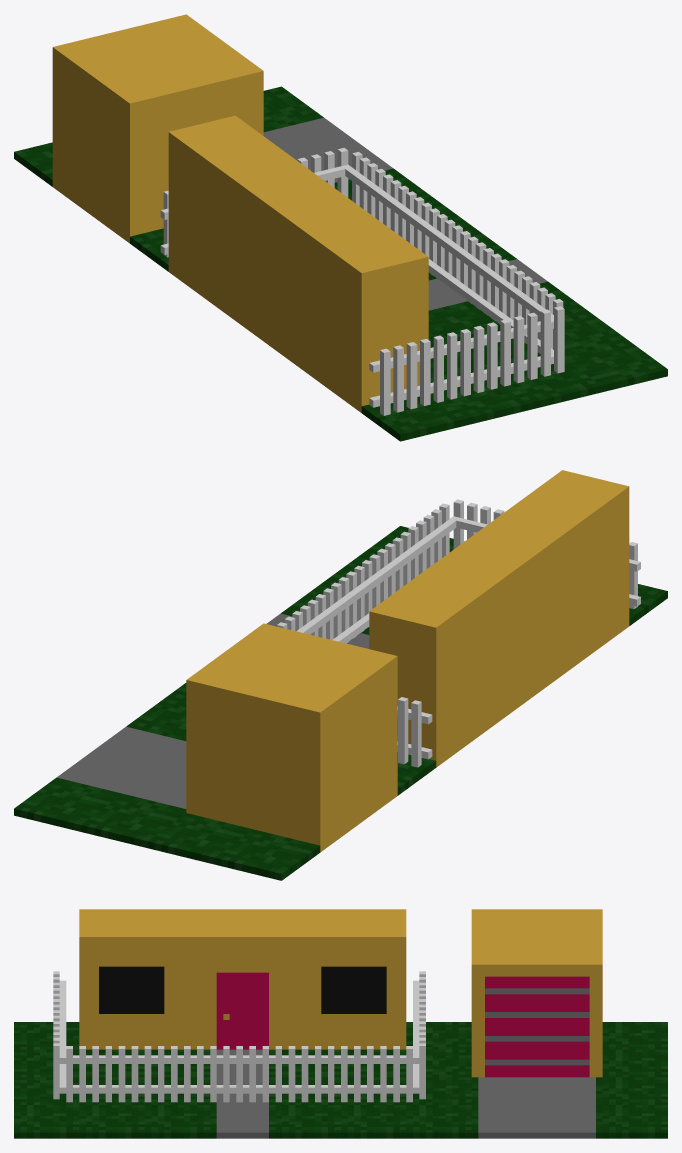
File: house_bright_yellow.fbx
3 renders of one model, top to bottom at view 1: azimuth 30°, elevation 25°; view 2: azimuth 150°, elevation 25°; view 3: azimuth 270°, elevation 25°, orthographic. The views are drawn at different scales.
Parts seen in each view (by area): view 1: Union; view 2: Union; view 3: Union.
Boxes of the visible parts, box(x1,y1,x2,y2) form: Union: box(14, 14, 667, 441); Union: box(14, 470, 667, 880); Union: box(14, 909, 667, 1138).
Bounding box in the file's own units: 40 × 20 × 100.
